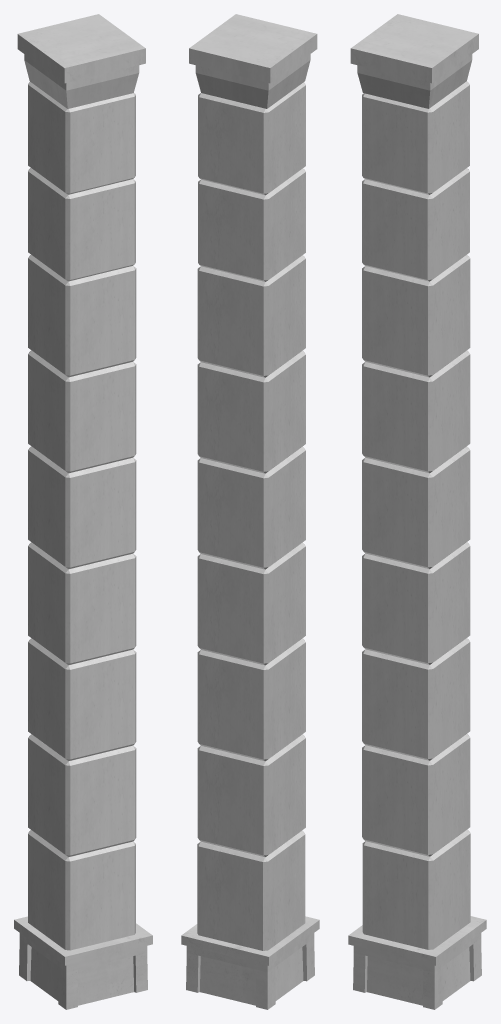
The model's file is Pillar_G.fbx.
The picture shows the model from 3 angles, left to right: view 1: azimuth 30°, elevation 25°; view 2: azimuth 150°, elevation 25°; view 3: azimuth 330°, elevation 25°; orthographic projection.
Visible parts, largest first — view 1: Pillar_G; view 2: Pillar_G; view 3: Pillar_G.
Boxes of the visible parts, x1,y1,x2,y2 form: Pillar_G: (14, 14, 152, 1009); Pillar_G: (181, 14, 319, 1009); Pillar_G: (348, 14, 486, 1009).
Size of the model in its own units: 119 by 1219 by 119.
1 material, 1 textured.
